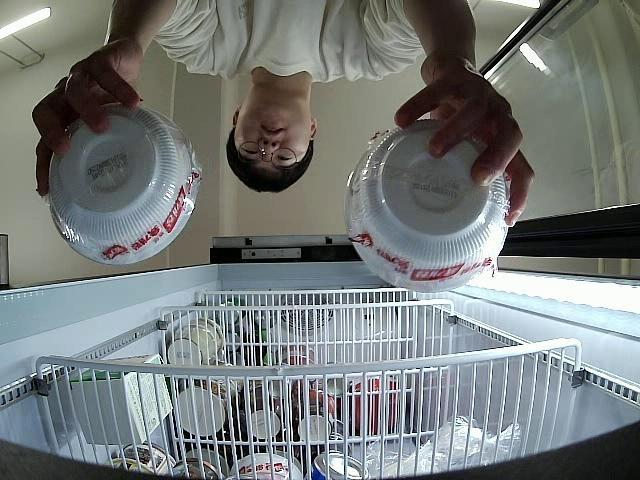09_yukGaeJang: (344, 117, 511, 294), (46, 104, 202, 266)
